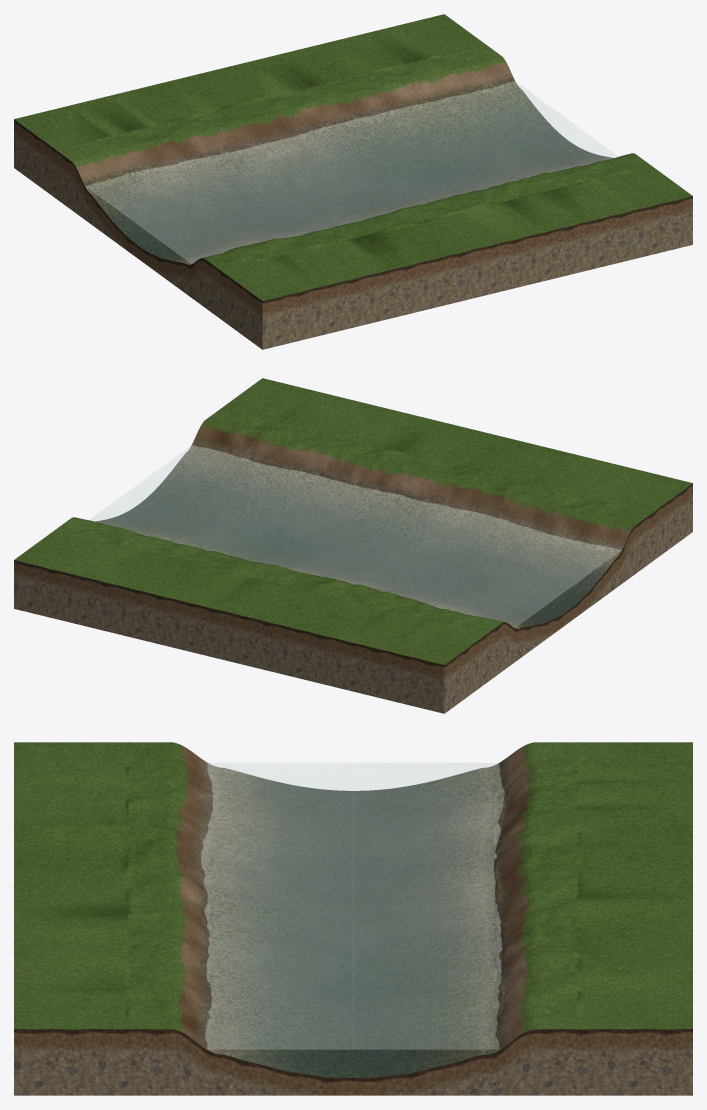
File: straight-river-segment.glb
The picture shows the model from 3 angles, top to bottom: view 1: azimuth 30°, elevation 25°; view 2: azimuth 150°, elevation 25°; view 3: azimuth 270°, elevation 25°; orthographic projection. The views are drawn at different scales.
Parts seen in each view (by area): view 1: River bed and banks, River water surface; view 2: River bed and banks, River water surface; view 3: River bed and banks, River water surface.
Boxes of the visible parts, x1=… form: River bed and banks: x1=14, y1=14, x2=692, y2=349; River water surface: x1=85, y1=81, x2=617, y2=263; River bed and banks: x1=14, y1=378, x2=692, y2=713; River water surface: x1=90, y1=445, x2=621, y2=627; River bed and banks: x1=14, y1=742, x2=692, y2=1095; River water surface: x1=201, y1=763, x2=504, y2=1049.
Bounding box in the file's own units: 24 × 2.7 × 24.
Materials: 3 (3 with a texture image).
